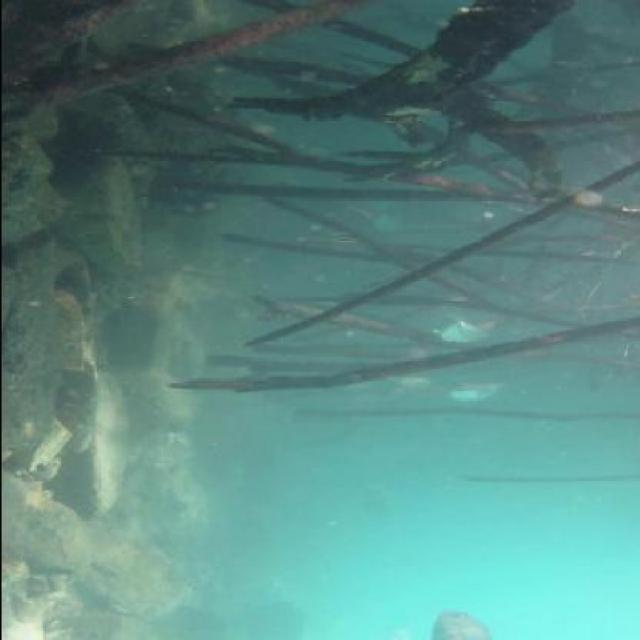Caranx_sexfasciatus_juvenile: (452, 365, 516, 403), (428, 606, 498, 640), (430, 315, 499, 342), (382, 378, 450, 405)
